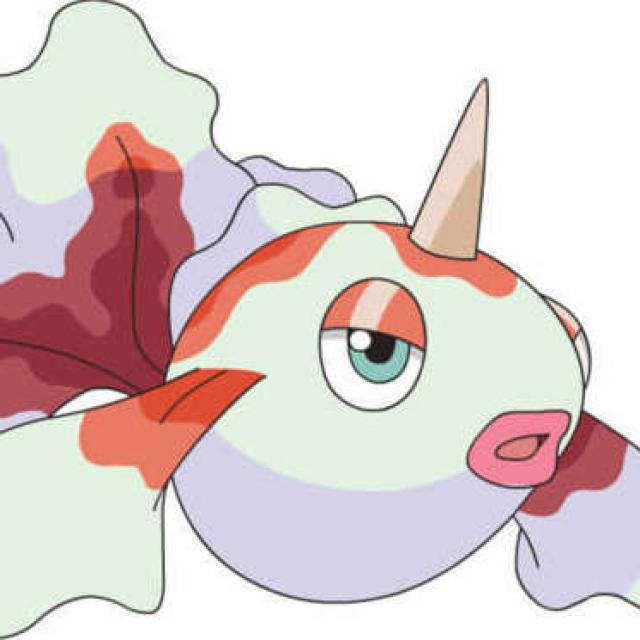Goldeen: (0, 5, 632, 640)
